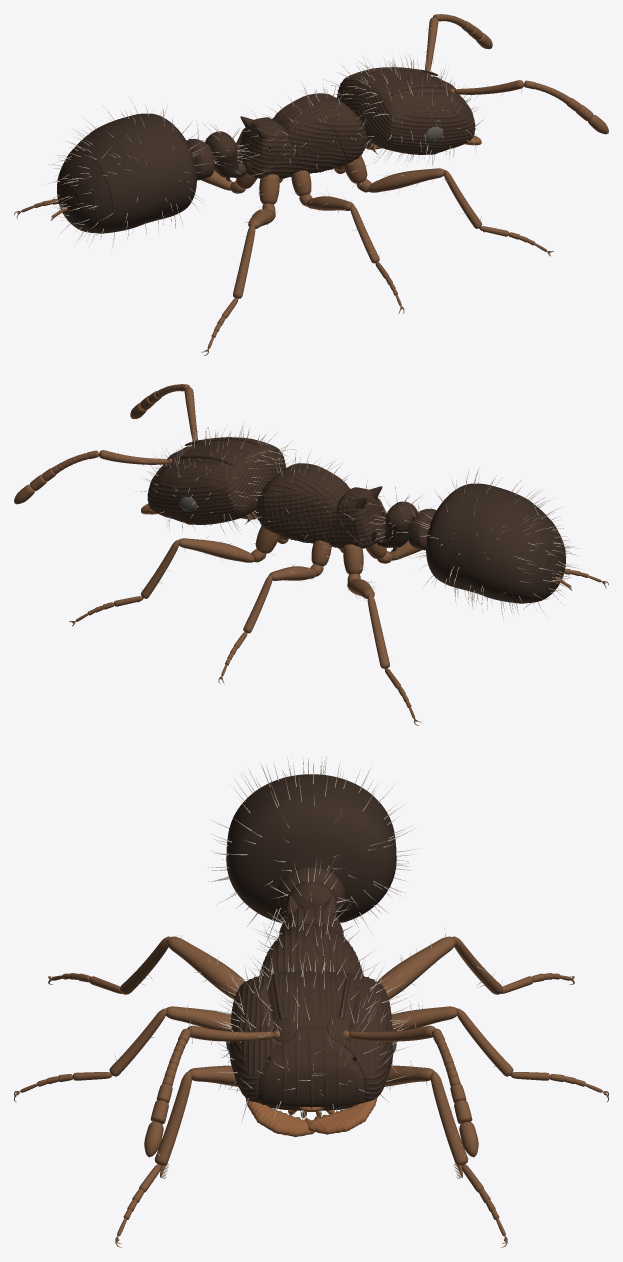
The model's file is tetramorium.glb.
The picture shows the model from 3 angles, top to bottom: view 1: azimuth 30°, elevation 25°; view 2: azimuth 150°, elevation 25°; view 3: azimuth 270°, elevation 25°; orthographic projection. The views are drawn at different scales.
Parts seen in each view (by area): view 1: gaster-IV, x-head-capsule, mesosoma, gaster-V, hl-pronotum, hl-propodeum, hl-mesonotum, x-setae-gaster, x-setae-head, petiole, gaster-VI, x-femur-fore_R (+10 smaller); view 2: gaster-IV, x-head-capsule, mesosoma, gaster-V, hl-pronotum, hl-propodeum, hl-mesonotum, x-setae-gaster, petiole, gaster-VI, x-setae-head, x-femur-fore_L (+10 smaller); view 3: gaster-IV, x-head-capsule, clypeus, hl-pronotum, x-setae-head, x-setae-gaster, x-femur-hind_R, x-femur-hind_L, postpetiole, mandible_L, mandible_R, x-tibia-fore_R (+21 smaller).
Boxes of the visible parts, bbox=[...] form: gaster-IV: bbox=[67, 113, 196, 233]; x-head-capsule: bbox=[337, 67, 475, 154]; mesosoma: bbox=[249, 130, 347, 178]; gaster-V: bbox=[57, 151, 112, 233]; hl-pronotum: bbox=[305, 93, 365, 162]; hl-propodeum: bbox=[238, 117, 285, 174]; hl-mesonotum: bbox=[275, 95, 332, 139]; x-setae-gaster: bbox=[45, 99, 211, 249]; x-setae-head: bbox=[319, 53, 483, 166]; petiole: bbox=[205, 131, 246, 181]; gaster-VI: bbox=[57, 168, 94, 230]; x-femur-fore_R: bbox=[368, 168, 443, 192]; gaster-IV: bbox=[426, 483, 555, 603]; x-head-capsule: bbox=[147, 437, 286, 524]; mesosoma: bbox=[275, 500, 375, 548]; gaster-V: bbox=[510, 521, 565, 603]; hl-pronotum: bbox=[256, 463, 317, 532]; hl-propodeum: bbox=[337, 487, 384, 544]; hl-mesonotum: bbox=[290, 465, 346, 509]; x-setae-gaster: bbox=[413, 469, 583, 620]; petiole: bbox=[376, 501, 417, 551]; gaster-VI: bbox=[528, 538, 565, 600]; x-setae-head: bbox=[135, 423, 300, 536]; x-femur-fore_L: bbox=[179, 538, 254, 562]; gaster-IV: bbox=[226, 774, 396, 923]; x-head-capsule: bbox=[229, 971, 393, 1110]; clypeus: bbox=[258, 1027, 364, 1107]; hl-pronotum: bbox=[259, 934, 363, 975]; x-setae-head: bbox=[209, 951, 414, 1122]; x-setae-gaster: bbox=[208, 756, 419, 943]; x-femur-hind_R: bbox=[167, 936, 245, 999]; x-femur-hind_L: bbox=[378, 936, 455, 999]; postpetiole: bbox=[277, 867, 345, 913]; mandible_L: bbox=[305, 1097, 377, 1134]; mandible_R: bbox=[245, 1097, 314, 1137]; x-tibia-fore_R: bbox=[154, 1071, 191, 1165].
Bounding box in the file's own units: 3.77 × 1.32 × 2.8.
